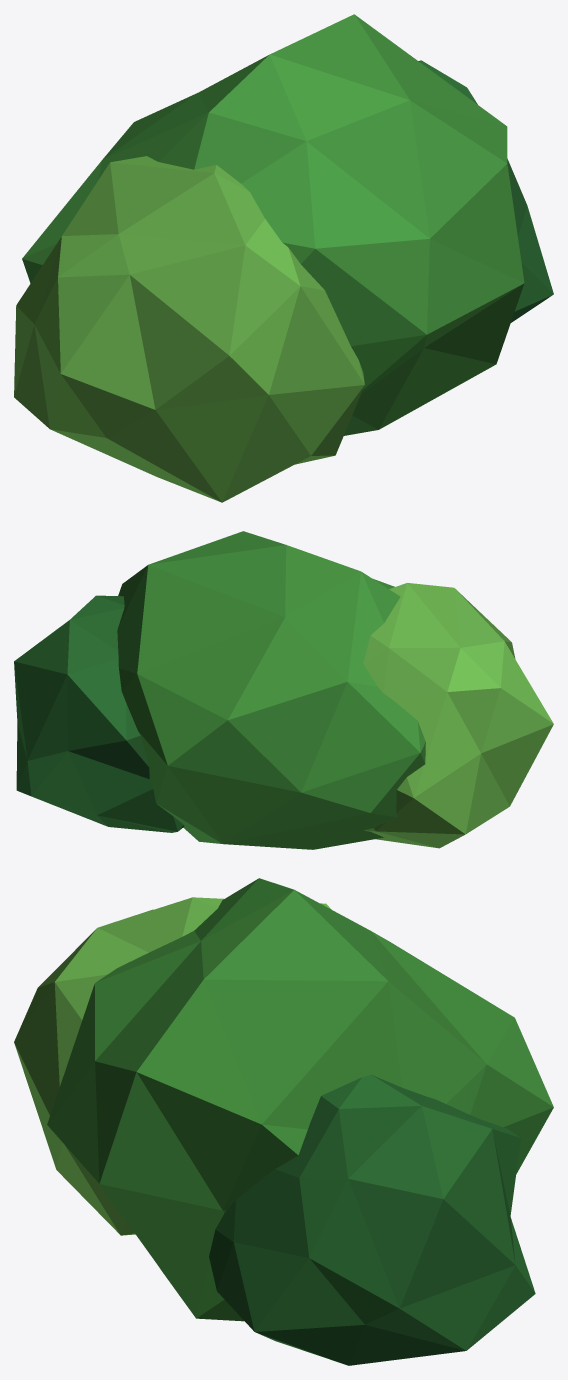
The model's file is Scatter_Bush.fbx.
3 views of the same model, one above another, from view 1: azimuth 30°, elevation 25°; view 2: azimuth 150°, elevation 25°; view 3: azimuth 270°, elevation 25° (orthographic). The views are drawn at different scales.
Parts seen in each view (by area): view 1: Bush; view 2: Bush; view 3: Bush.
Part boxes in pixels (box(x1,y1,x2,y2)): Bush: box(14, 14, 553, 502); Bush: box(14, 531, 553, 849); Bush: box(14, 878, 553, 1365).
Size of the model in its own units: 7.18 by 4.16 by 5.68.
